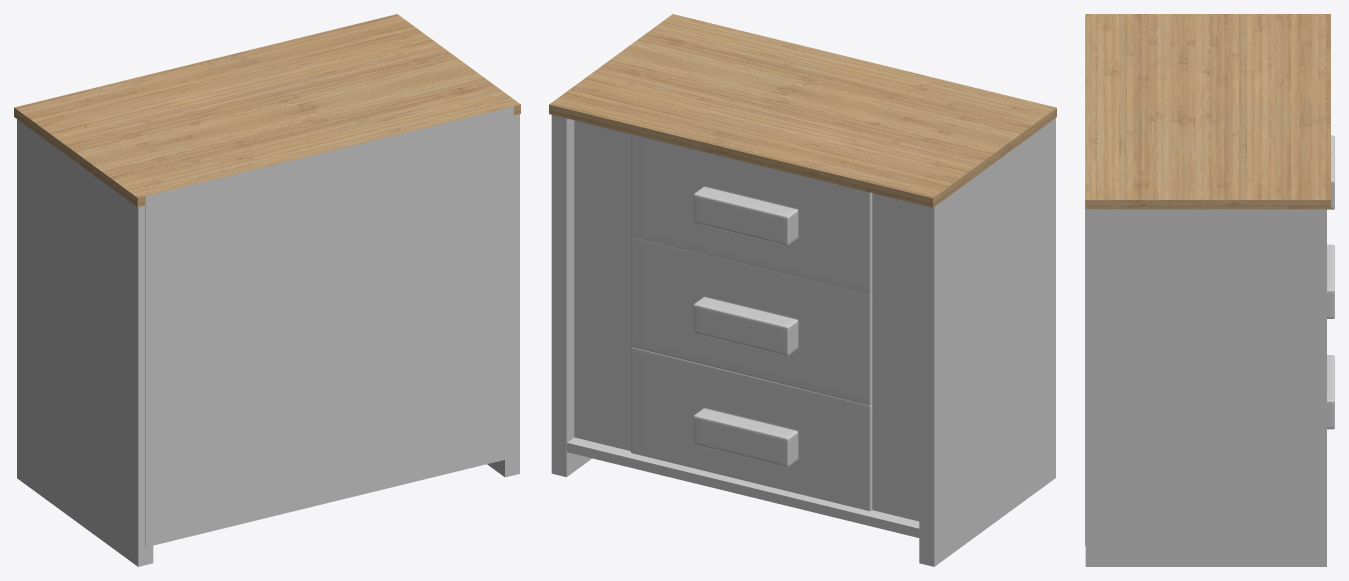
The model's file is bathroomfurniture01.fbx.
The picture shows the model from 3 angles, left to right: view 1: azimuth 30°, elevation 25°; view 2: azimuth 150°, elevation 25°; view 3: azimuth 270°, elevation 25°; orthographic projection.
Visible parts, largest first — view 1: pCube432; view 2: pCube432; view 3: pCube432.
Boxes of the visible parts, left/top/right/bottom form: pCube432: left=14, top=14, right=520, bottom=566; pCube432: left=549, top=14, right=1056, bottom=566; pCube432: left=1085, top=14, right=1334, bottom=566.
Size of the model in its own units: 9.79 by 9.02 by 5.56.
2 materials, 1 textured.
